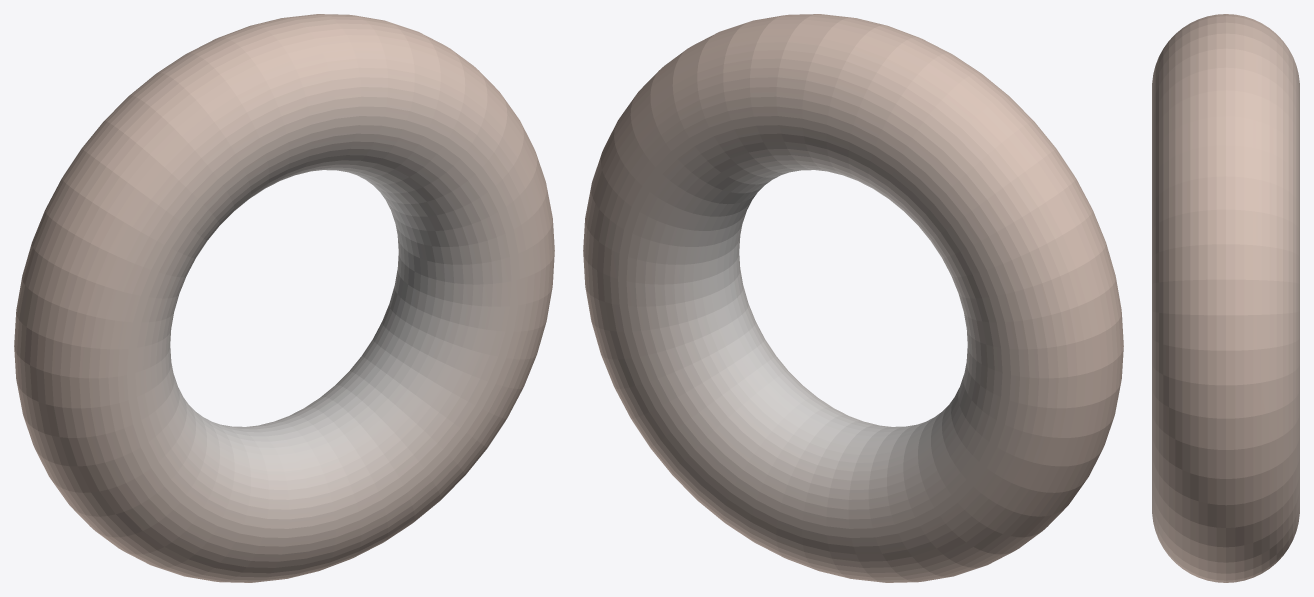
3 views of the same model, side by side, from view 1: azimuth 30°, elevation 25°; view 2: azimuth 150°, elevation 25°; view 3: azimuth 270°, elevation 25° (orthographic). The views are drawn at different scales.
Parts seen in each view (by area): view 1: world; view 2: world; view 3: world.
Boxes of the visible parts, x1,y1,x2,y2 form: world: [14, 14, 554, 582]; world: [583, 14, 1123, 582]; world: [1152, 14, 1299, 582].
Bounding box in the file's own units: 26.13 × 26.08 × 6.79.
